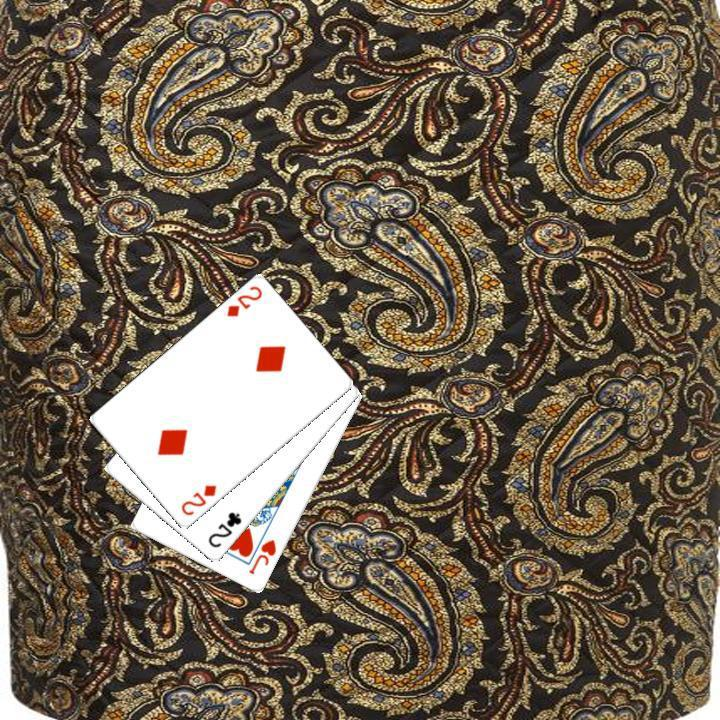2: (203, 508, 244, 550), (176, 481, 218, 518), (222, 282, 264, 319)
J: (244, 535, 278, 577)
